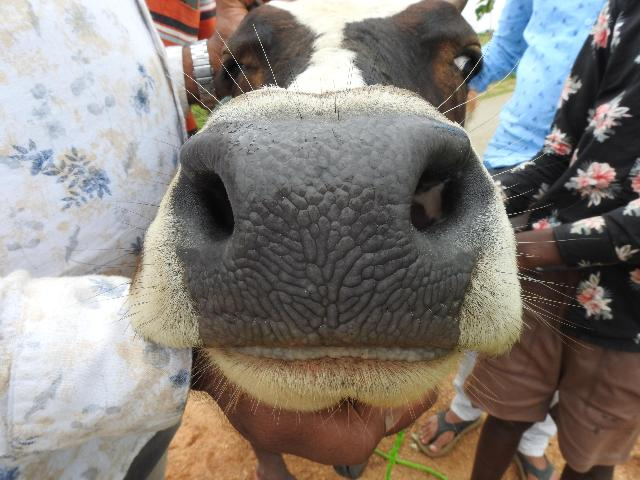Muzzle: (223, 119, 423, 336)
